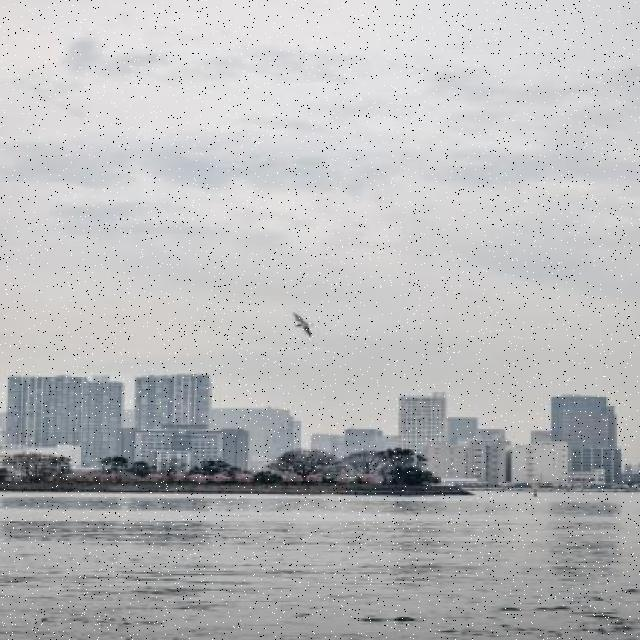bird: (290, 313, 316, 338)
